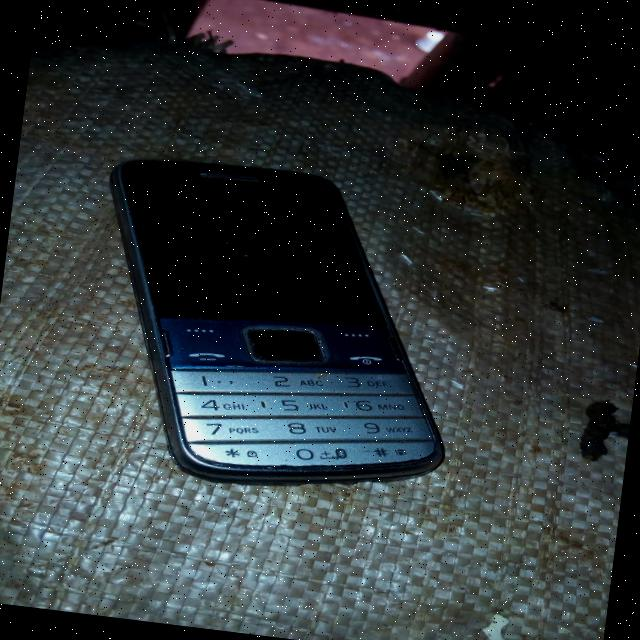Phone: (72, 149, 478, 509)
